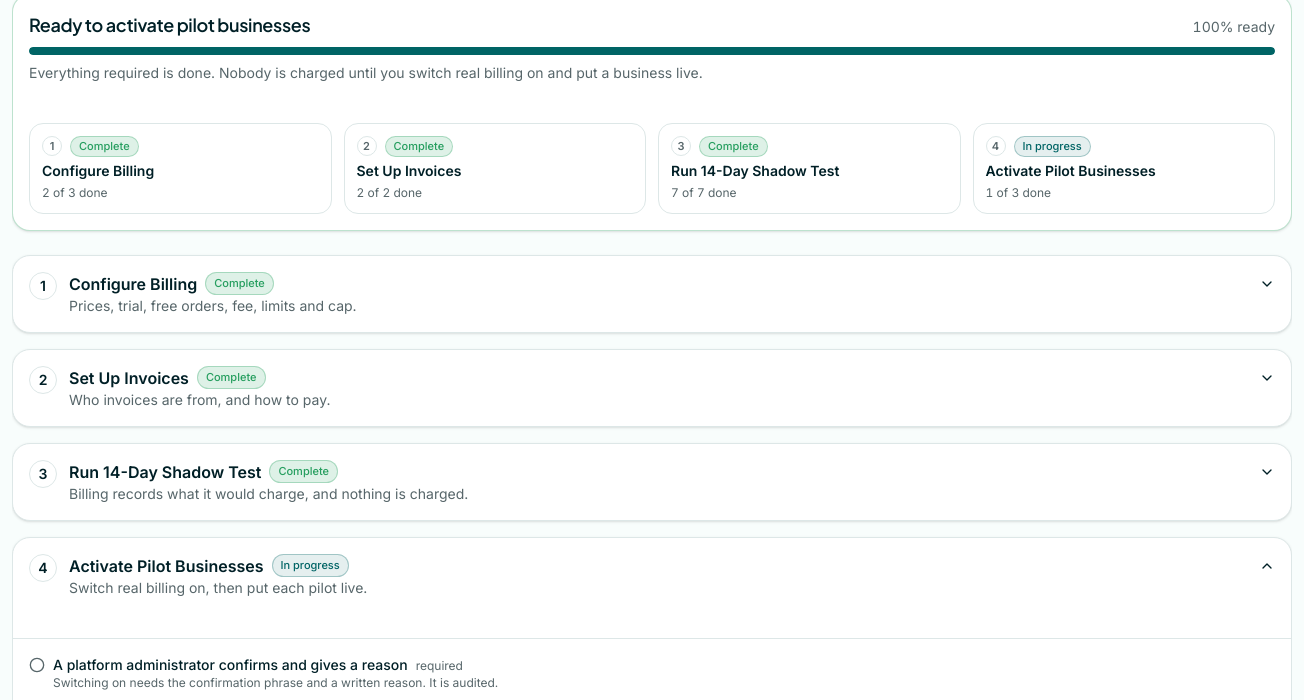
Test: offers nothing to save when the figures are unchanged
Click the button "1 Complete Configure Billing 2 of 3 done".
click(104, 146)  # box [29,123,332,214]
(page scrolled)
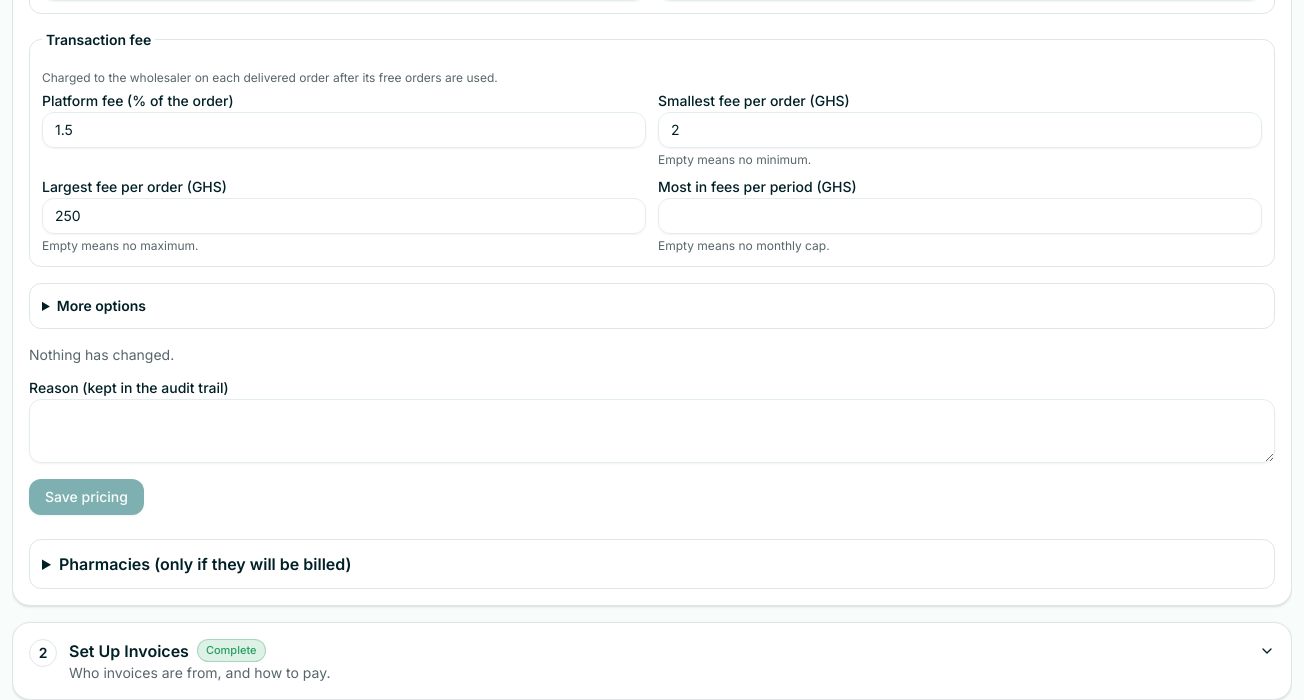
Check: the button with test id "pricing-save-wholesaler" is disabled, box [29,479,144,515]
